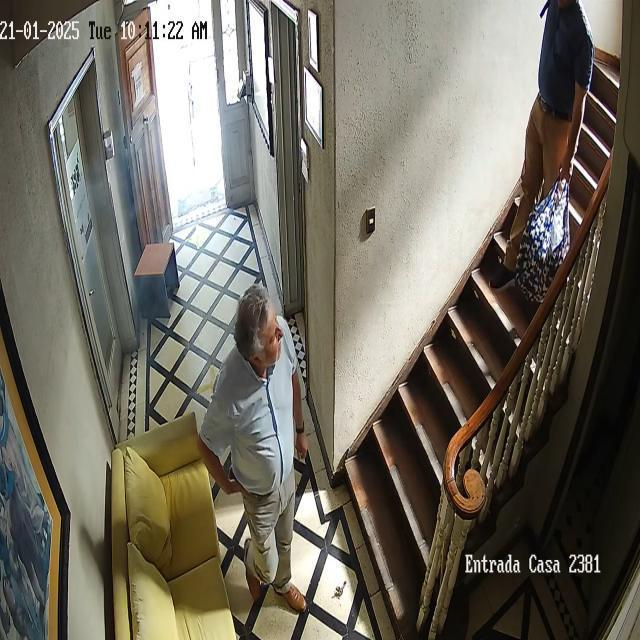fire: (81, 110, 181, 367)
